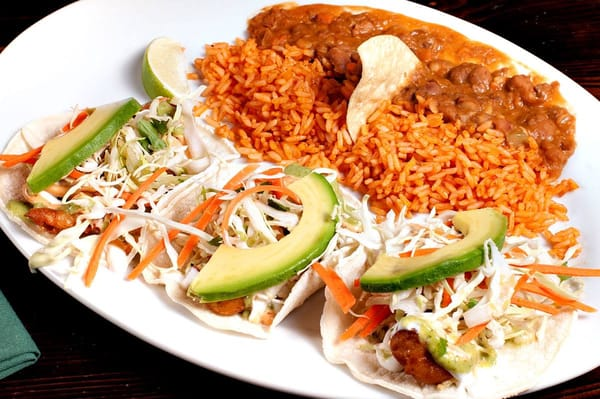curry: (0, 1, 596, 394)
pizza: (0, 144, 44, 169)
